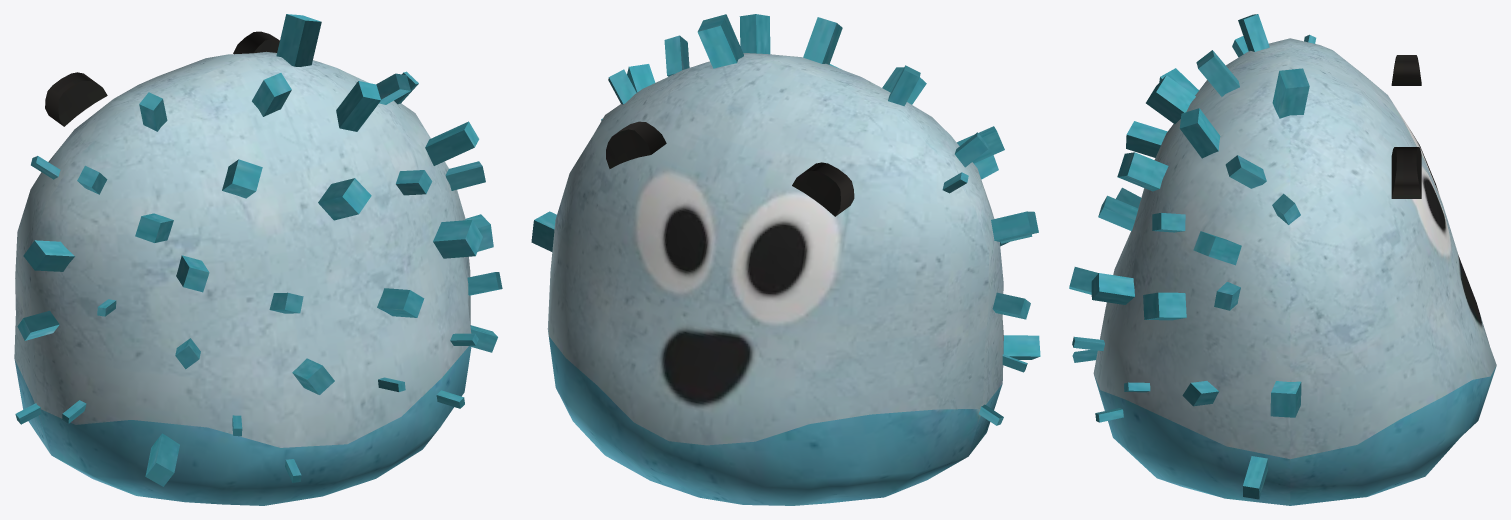
Rendered from PRP_WBC.glb.
3 renders of one model, left to right at view 1: azimuth 30°, elevation 25°; view 2: azimuth 150°, elevation 25°; view 3: azimuth 270°, elevation 25°, orthographic. The views are drawn at different scales.
Parts seen in each view (by area): view 1: body_low1_M_bodybottom_0, brow_low3_M_brow_0; view 2: body_low1_M_bodybottom_0, brow_low3_M_brow_0; view 3: body_low1_M_bodybottom_0, brow_low3_M_brow_0.
Part boxes in pixels (x1,y1,x2,y2): body_low1_M_bodybottom_0: (14, 14, 502, 505); brow_low3_M_brow_0: (45, 31, 279, 126); body_low1_M_bodybottom_0: (531, 14, 1040, 505); brow_low3_M_brow_0: (606, 121, 854, 216); body_low1_M_bodybottom_0: (1069, 14, 1496, 505); brow_low3_M_brow_0: (1391, 55, 1421, 198).
Bounding box in the file's own units: 228 × 197 × 182.
2 materials, 2 textured.
